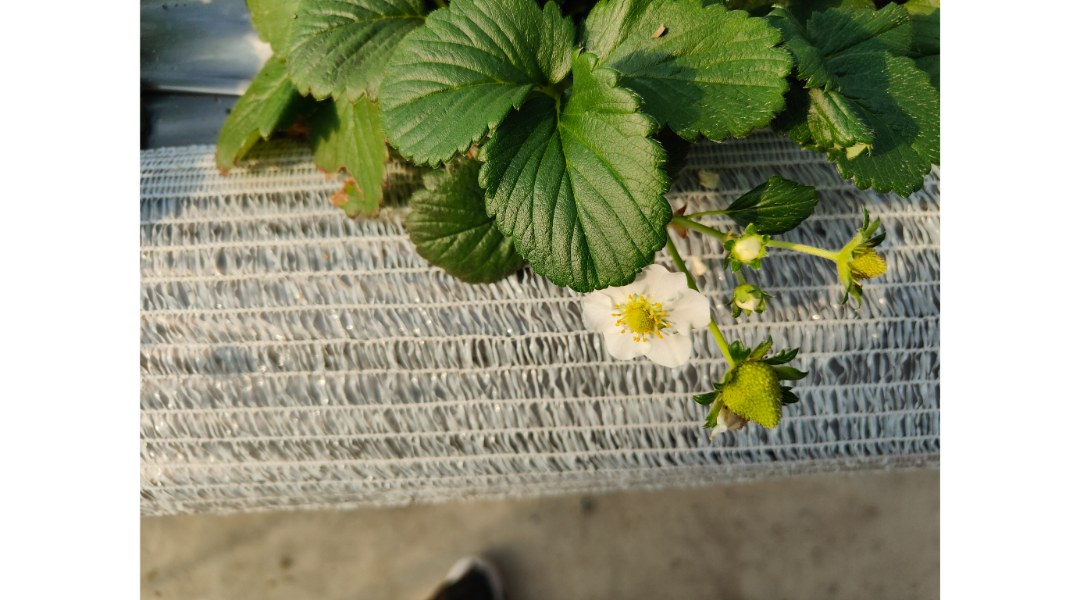berry: (698, 342, 800, 444), (826, 215, 896, 325), (722, 219, 777, 283)
flower: (576, 266, 708, 370)
